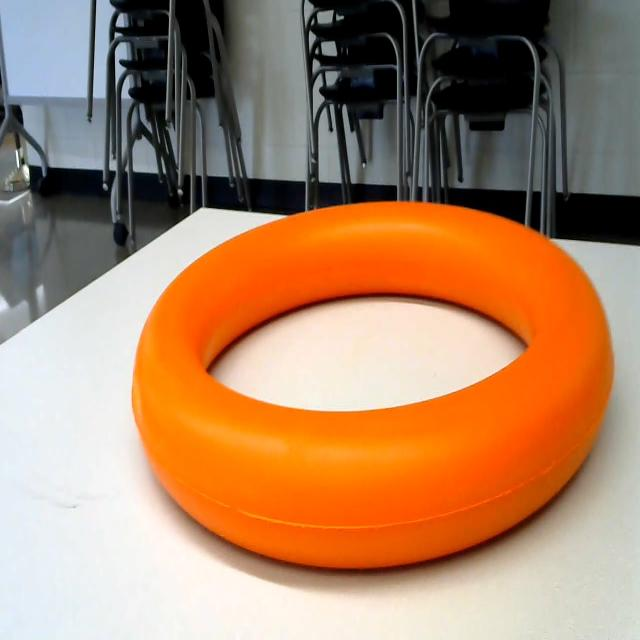note: (123, 167, 618, 600)
